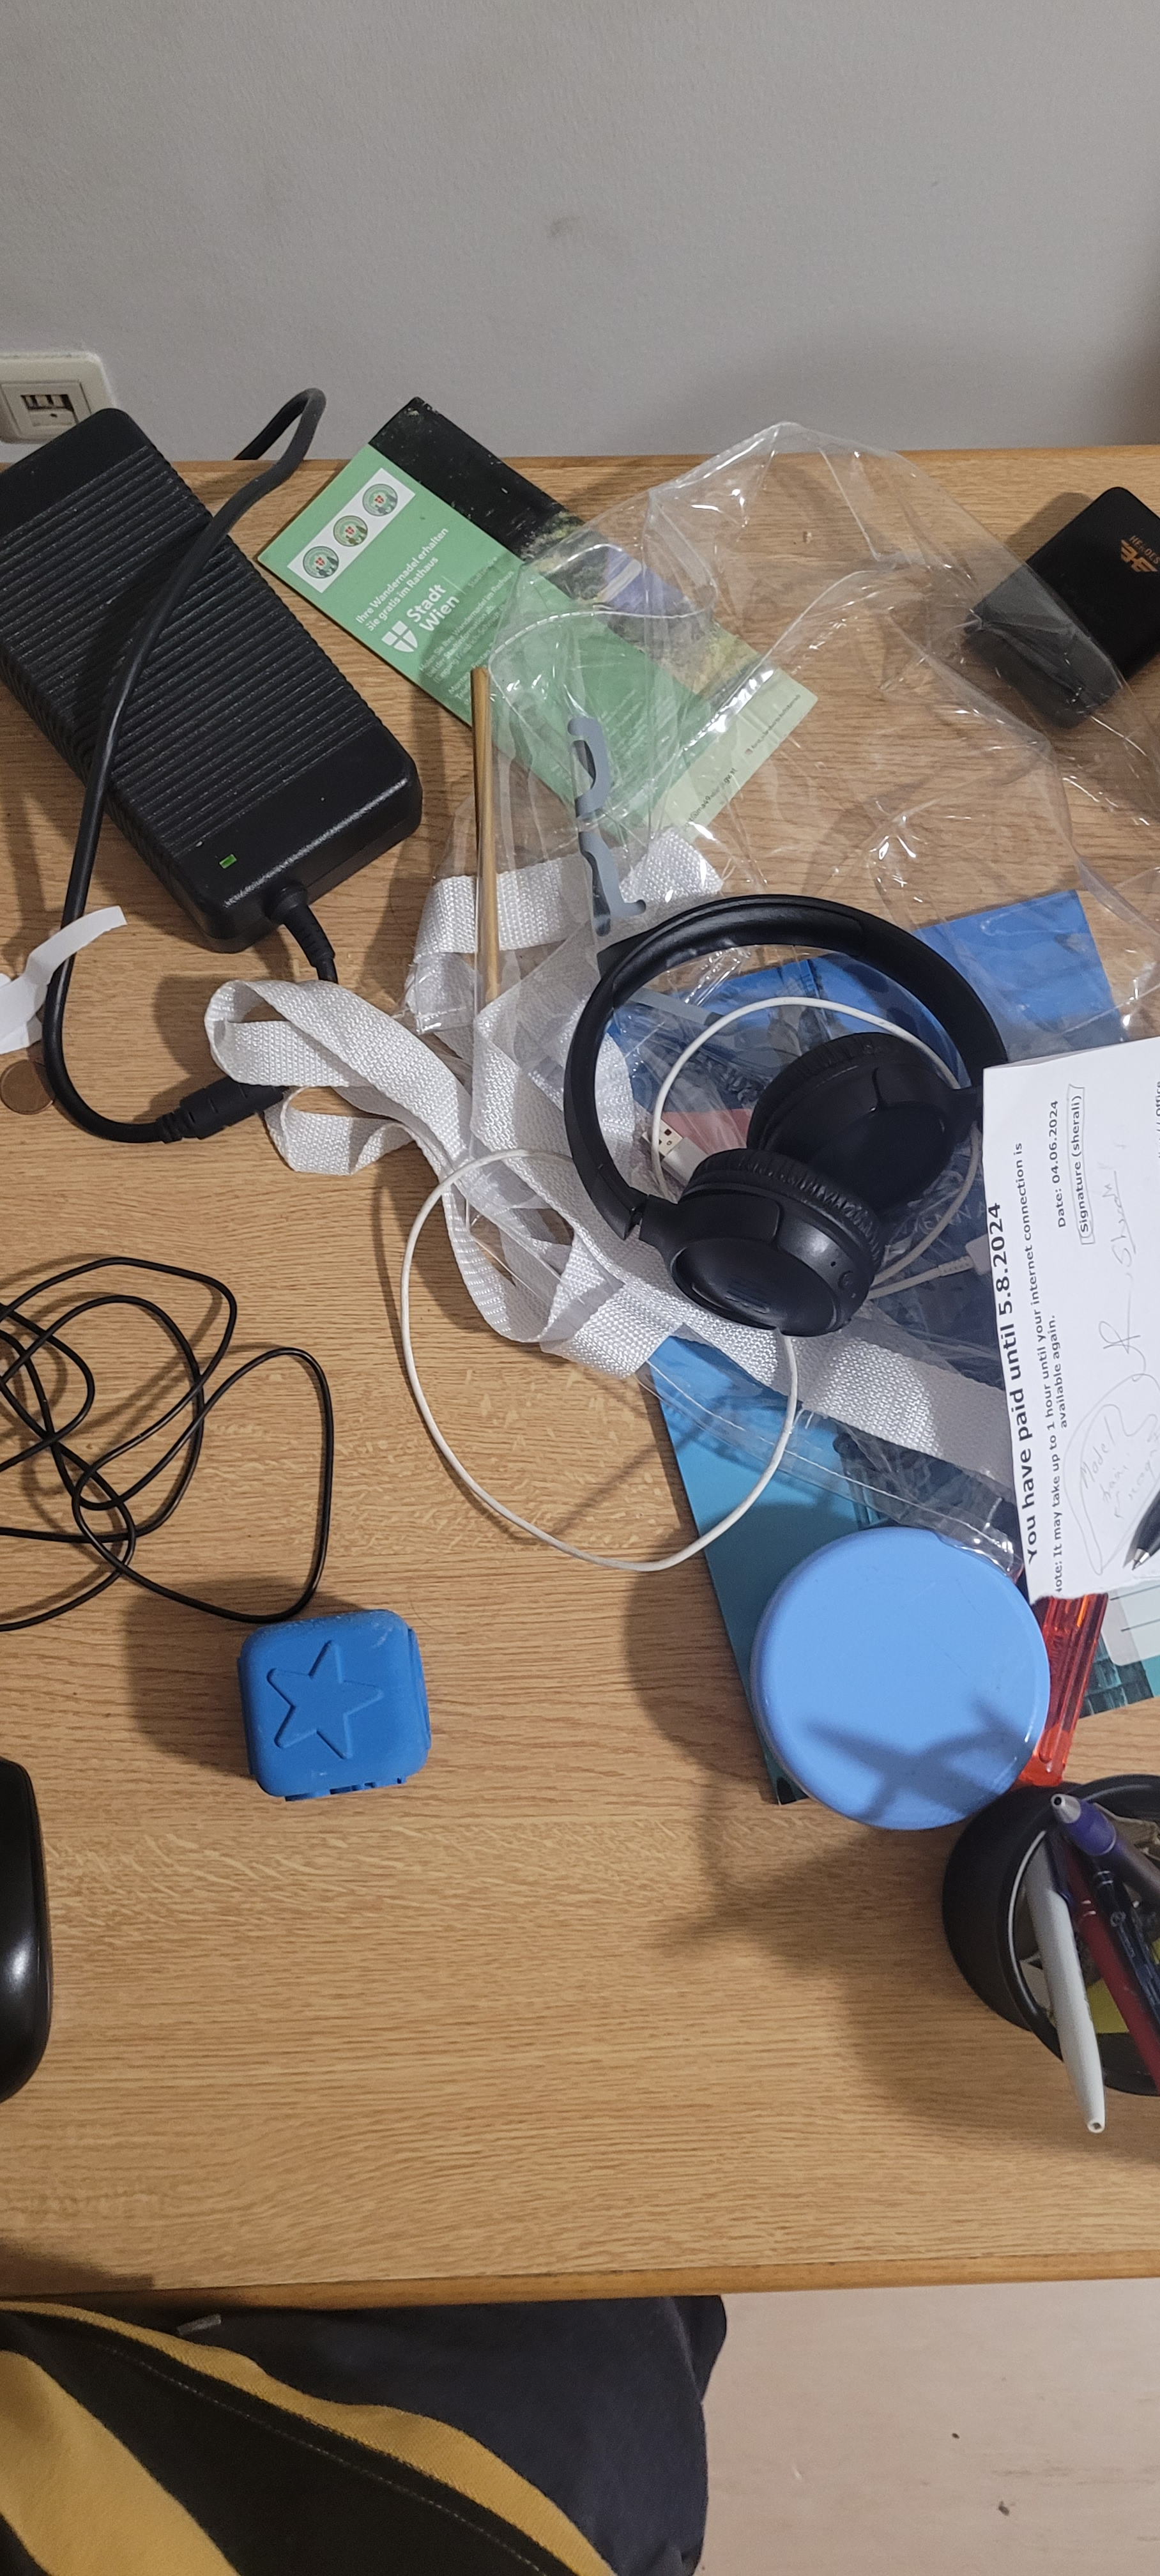Star: (242, 1633, 384, 1781)
